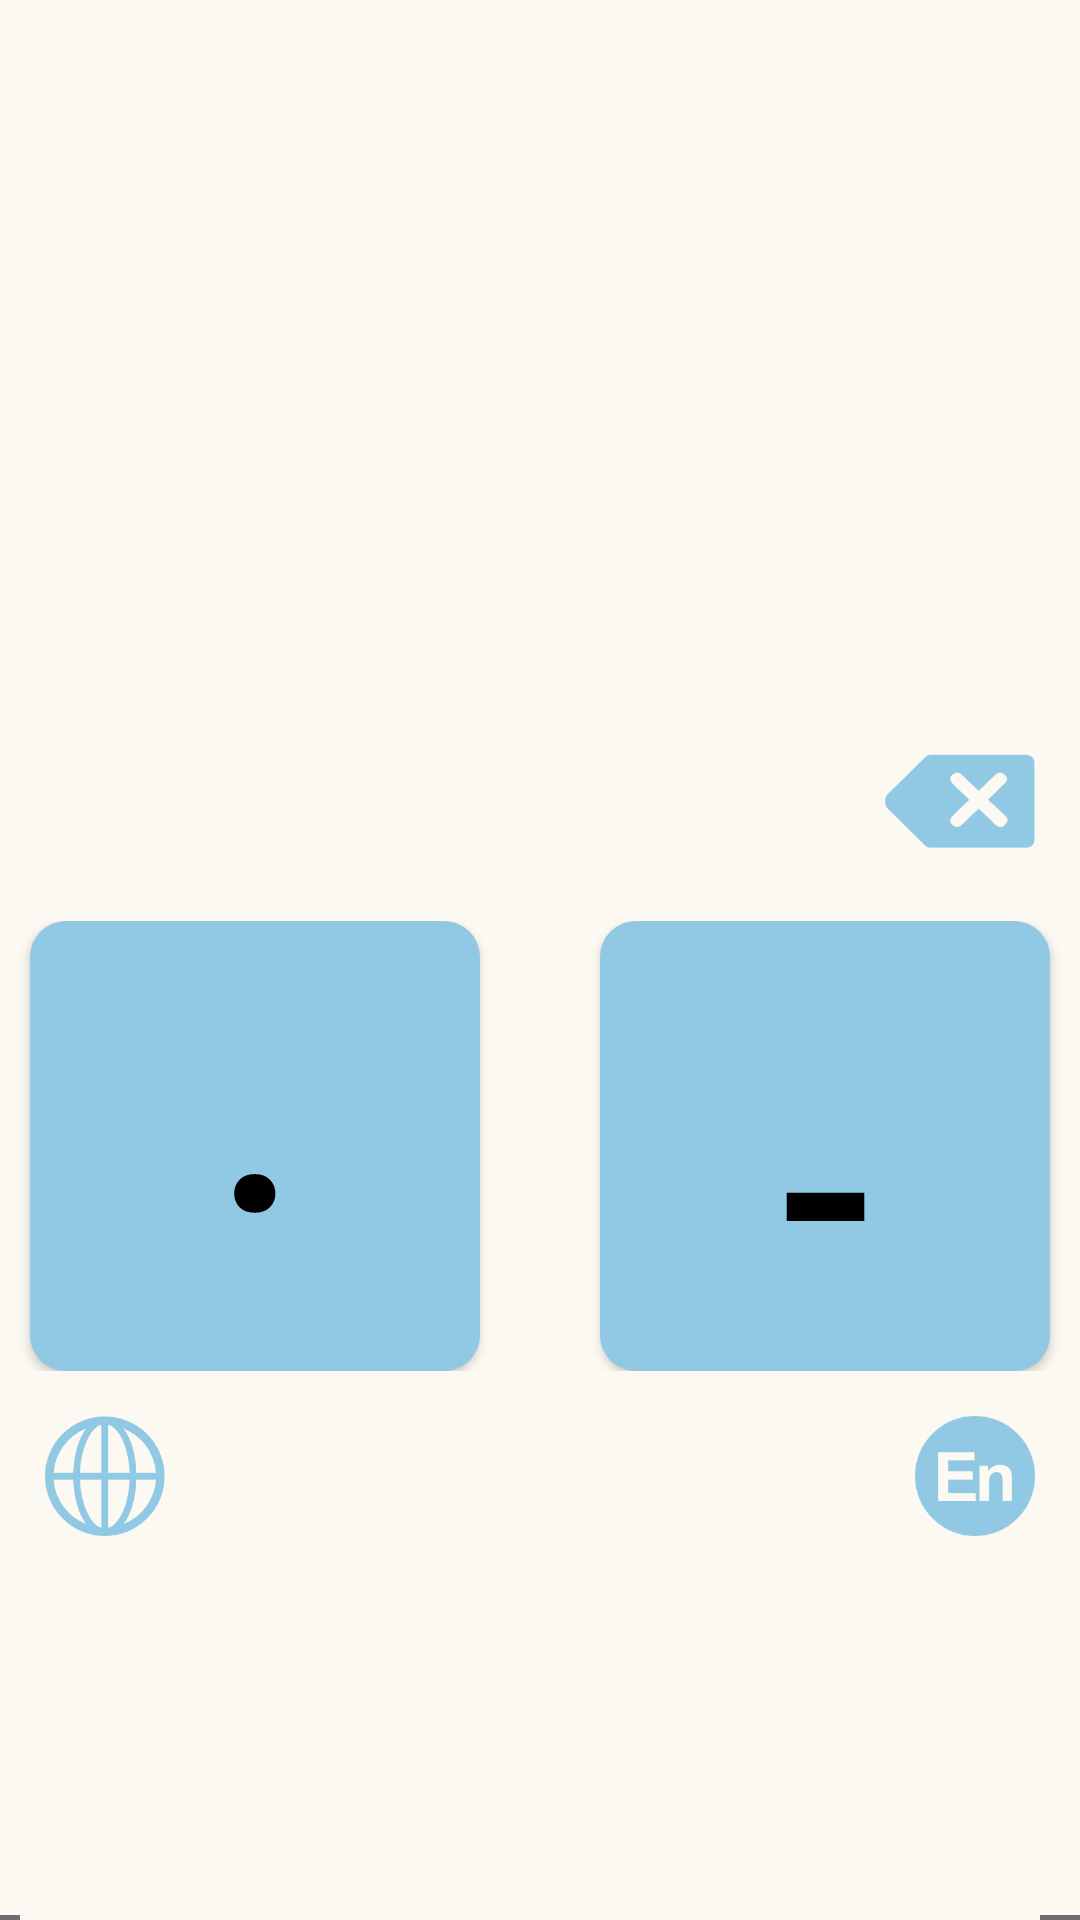

Icon bounding boxes for this 1080w x 1920h phone screenshot, format (x1, y1, x2, y2):
back: (885, 754, 1035, 848)
english: (915, 1416, 1035, 1536)
ime: (45, 1416, 165, 1536)
